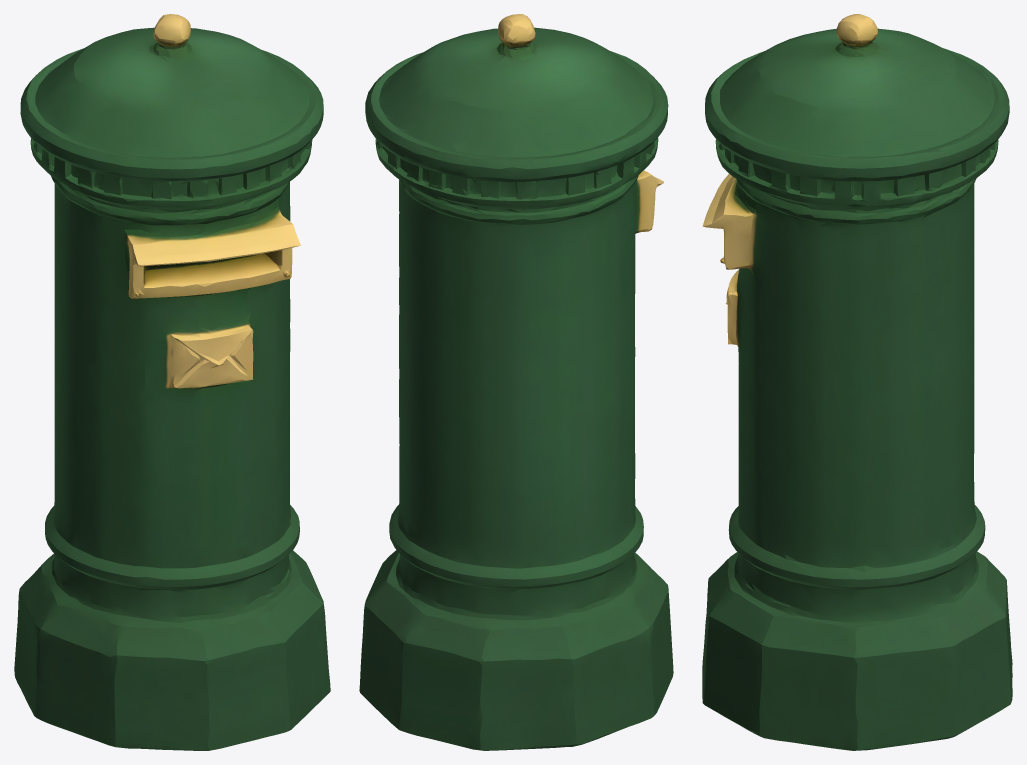
3 renders of one model, left to right at view 1: azimuth 30°, elevation 25°; view 2: azimuth 150°, elevation 25°; view 3: azimuth 270°, elevation 25°, orthographic.
Parts seen in each view (by area): view 1: Mesh; view 2: Mesh; view 3: Mesh.
Part boxes in pixels (<box>): Mesh: <box>14,14,330,750</box>; Mesh: <box>359,14,673,750</box>; Mesh: <box>702,14,1012,750</box>.
Bounding box in the file's own units: 0.8122 × 1.9 × 0.7951.
1 material, 1 textured.
